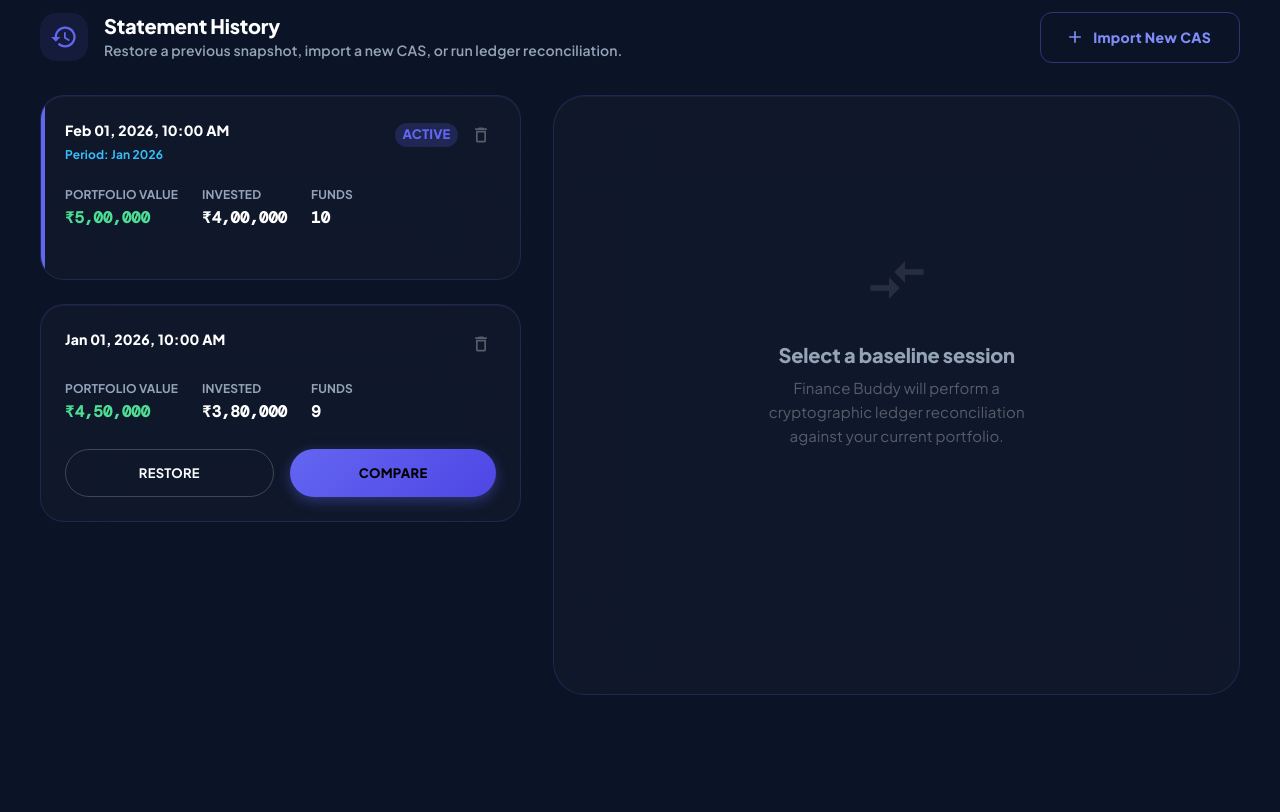
UploadHistory › covers switch-in/out grouping, identical ledger, and N/A top gainer
expect the heading "Statement History" is shown: met, box x1=104 y1=13 x2=280 y2=38
Click the button "COMPARE" at (393, 473), box x1=290 y1=449 x2=496 y2=497
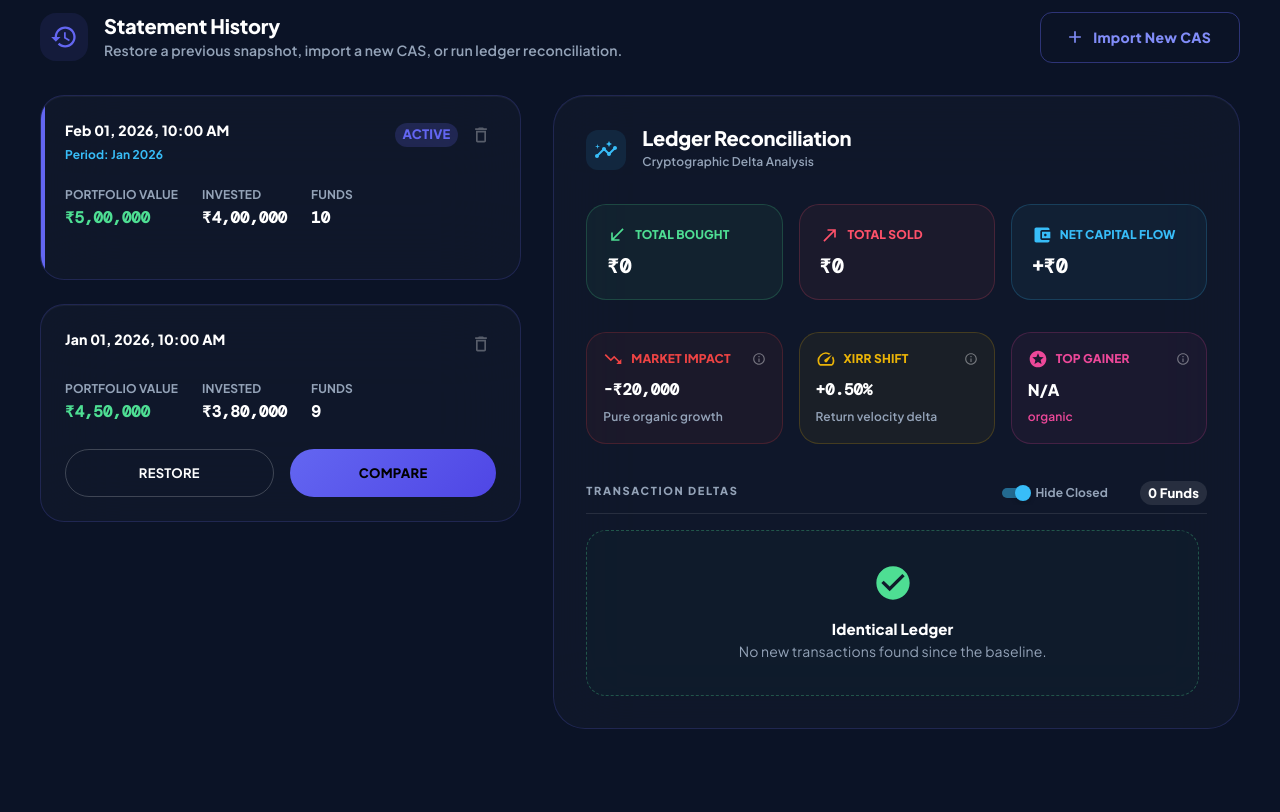
expect the text "Identical Ledger" is shown: met, box x1=832 y1=619 x2=954 y2=638
expect the text "Cryptographic Delta Analysis" is shown: met, box x1=642 y1=154 x2=814 y2=168
expect the heading "N/A" is shown: met, box x1=1028 y1=379 x2=1059 y2=400
Click the button "COMPARE" at (393, 473), box x1=290 y1=449 x2=496 y2=497
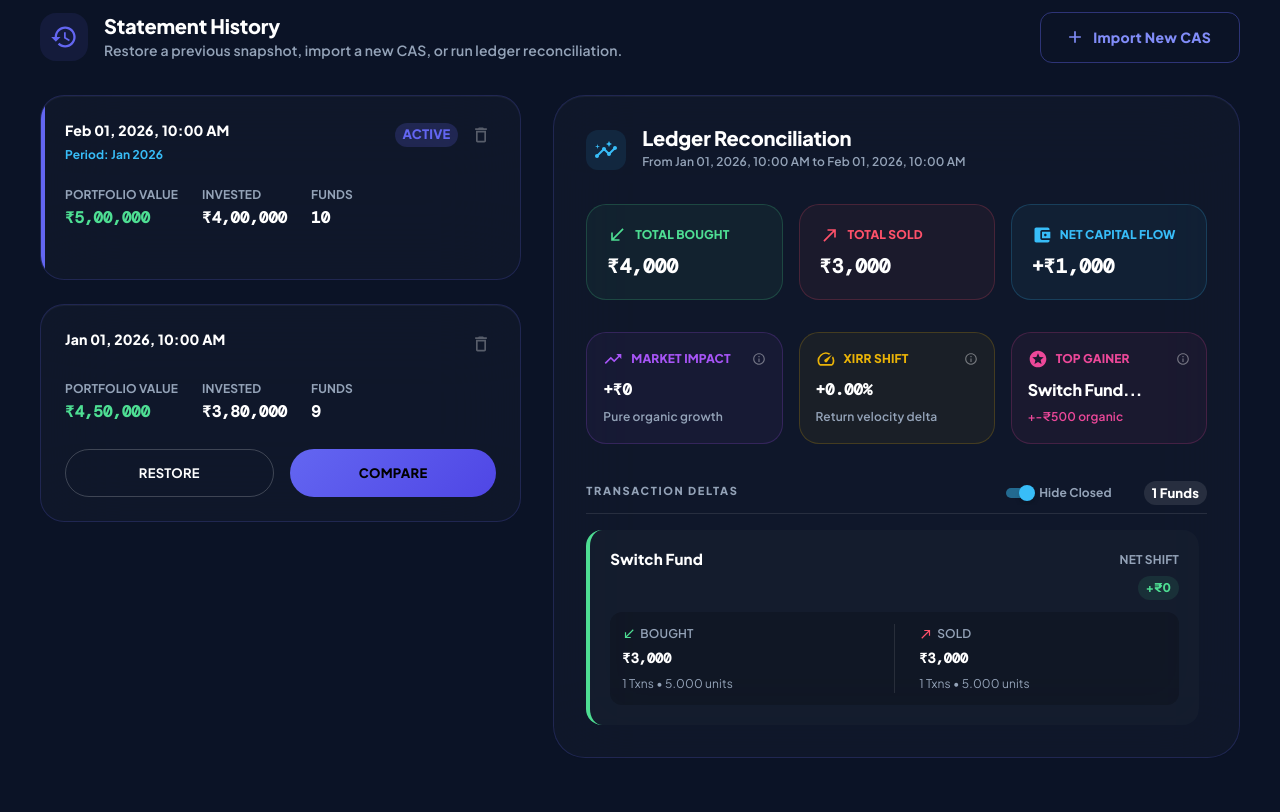
expect the text "TRANSACTION DELTAS" is shown: met, box x1=586 y1=484 x2=738 y2=497
Click the checkbox labelled "Hide Closed" at (1055, 493), box x1=999 y1=481 x2=1112 y2=505
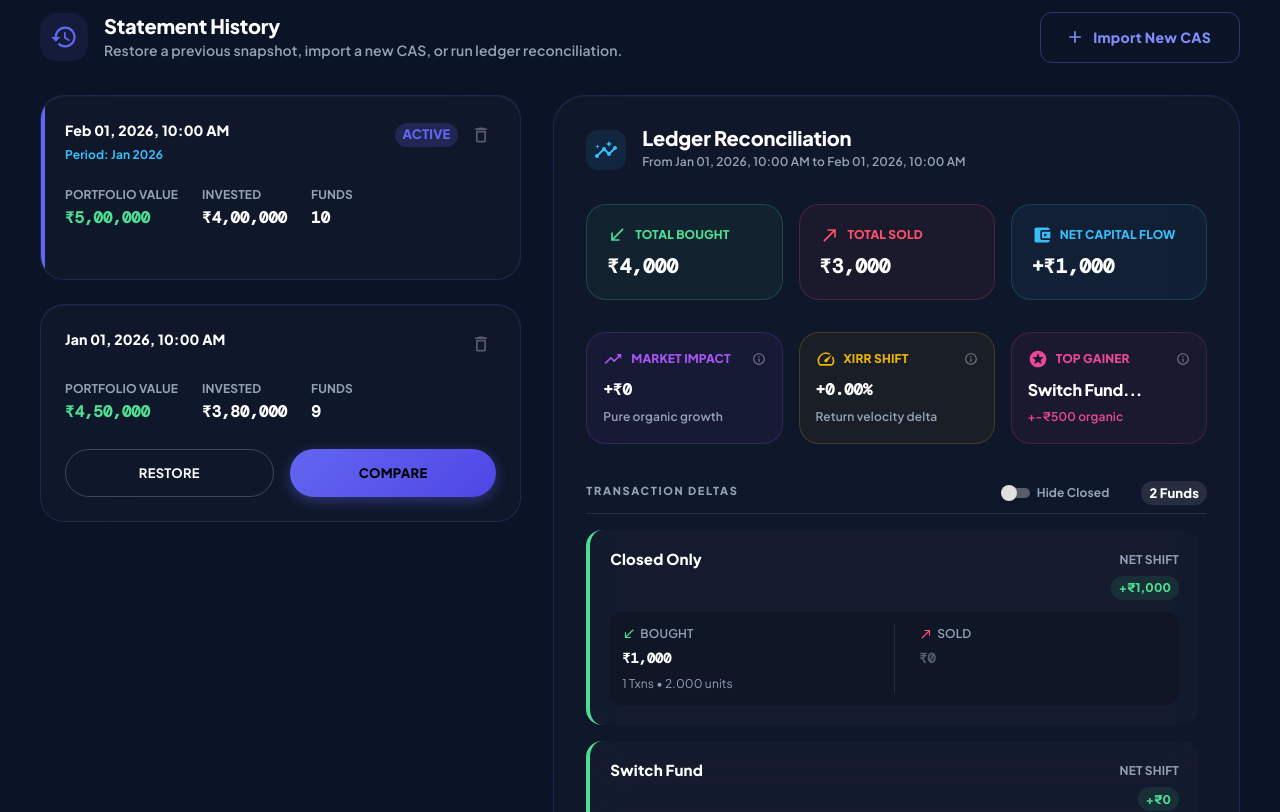
expect the text "Closed Only" is shown: met, box x1=610 y1=550 x2=702 y2=568
